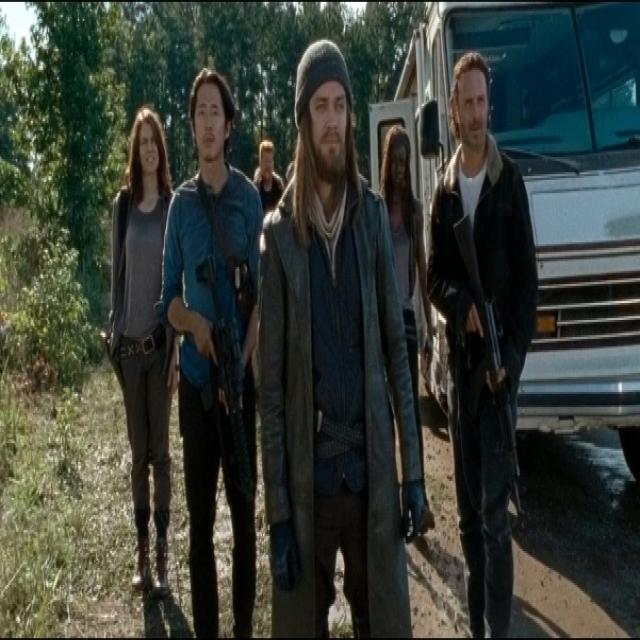rifle: (455, 211, 531, 515)
